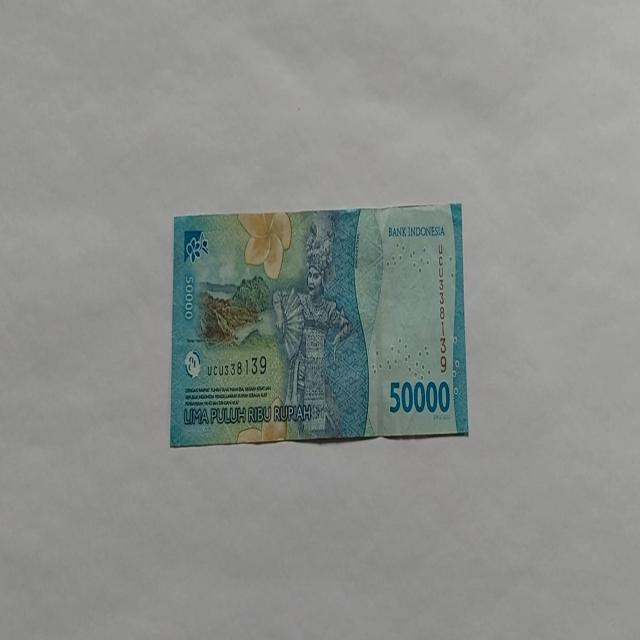lima puluh ribu rupiah: (169, 202, 469, 447)
